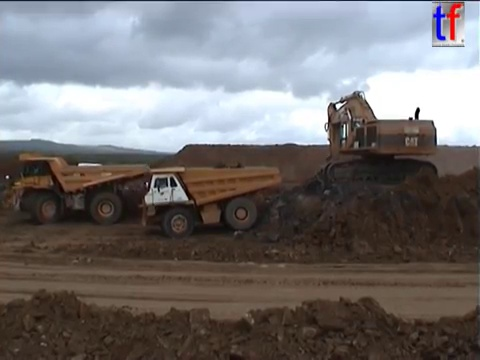excavator: (315, 88, 441, 190)
truck: (3, 150, 151, 226), (138, 164, 284, 240)
